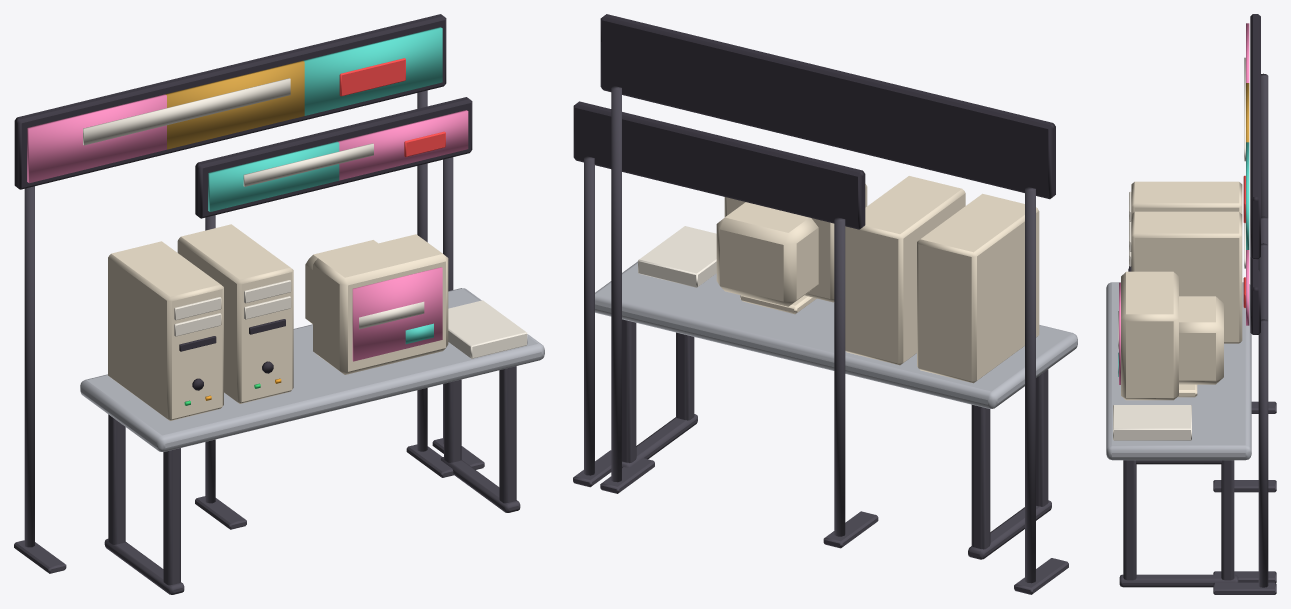
Rendered from dotcom_banner_l2.glb.
3 views of the same model, side by side, from view 1: azimuth 30°, elevation 25°; view 2: azimuth 150°, elevation 25°; view 3: azimuth 270°, elevation 25° (orthographic). The views are drawn at different scales.
Visible parts, largest first — view 1: dotcom_banner_l2; view 2: dotcom_banner_l2; view 3: dotcom_banner_l2.
Part boxes in pixels (x1,y1,x2,y2): dotcom_banner_l2: [14, 14, 544, 594]; dotcom_banner_l2: [573, 14, 1077, 594]; dotcom_banner_l2: [1106, 14, 1276, 594].
Size of the model in its own units: 1.76 by 1.63 by 0.645.
